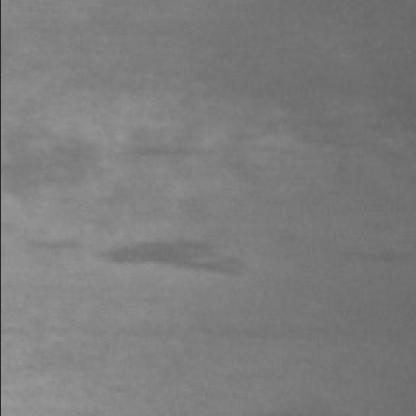inclusion: (85, 225, 262, 287), (108, 124, 235, 171)
